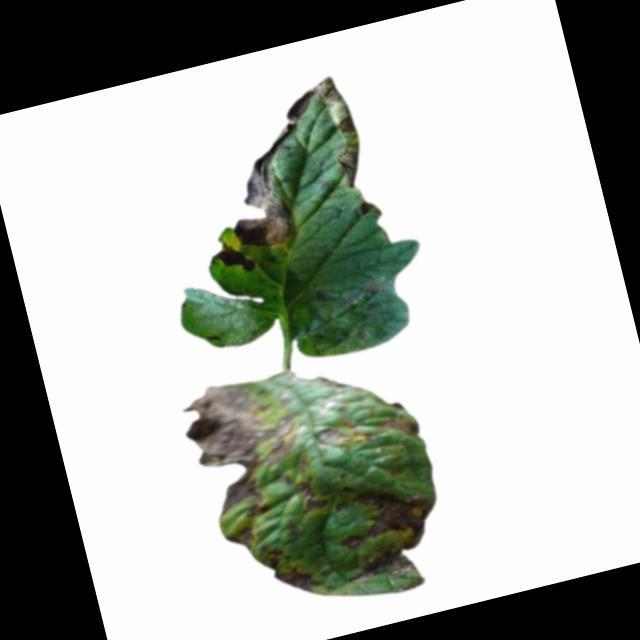Early_blight: (178, 367, 315, 518), (328, 465, 448, 586), (212, 122, 310, 254), (279, 72, 369, 199), (259, 539, 322, 602), (316, 407, 378, 454), (211, 237, 257, 282), (377, 408, 424, 446), (342, 281, 388, 316), (224, 524, 260, 552), (302, 495, 330, 516)
